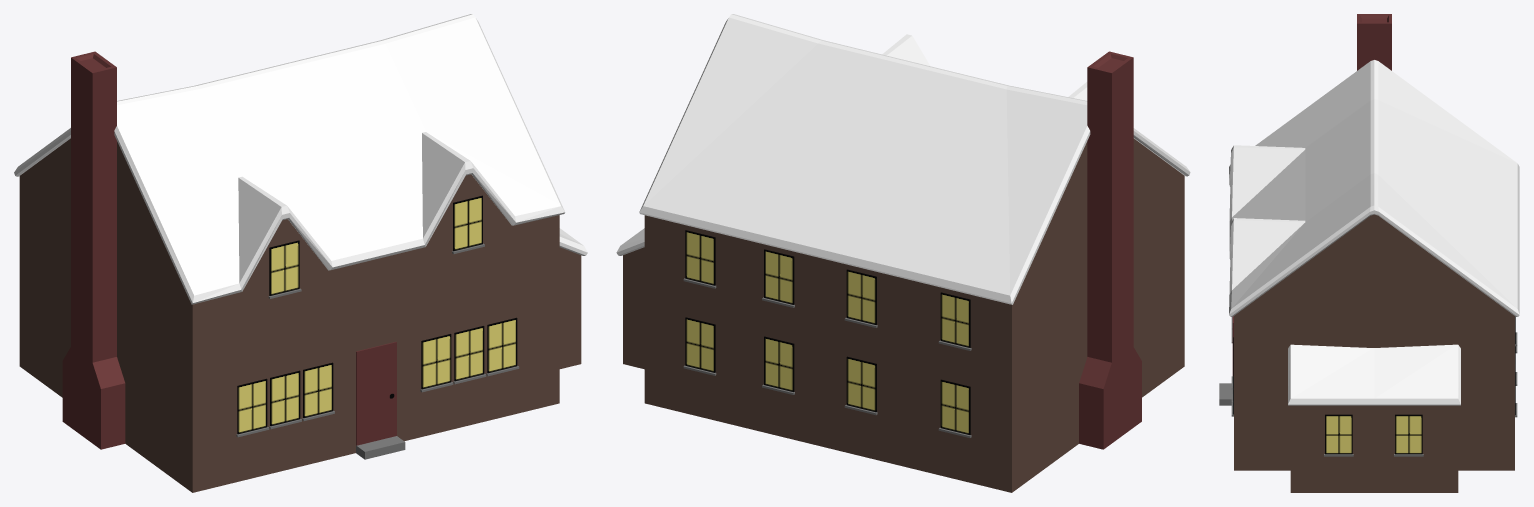
The model's file is house_2F_04.obj.
3 renders of one model, left to right at view 1: azimuth 30°, elevation 25°; view 2: azimuth 150°, elevation 25°; view 3: azimuth 270°, elevation 25°, orthographic. The views are drawn at different scales.
Bounding box in the file's own units: 1027 × 802 × 726.
